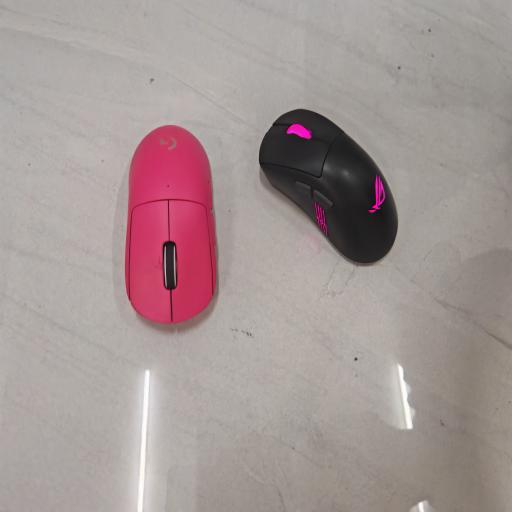mouse: (259, 109, 397, 263), (125, 126, 216, 323)
